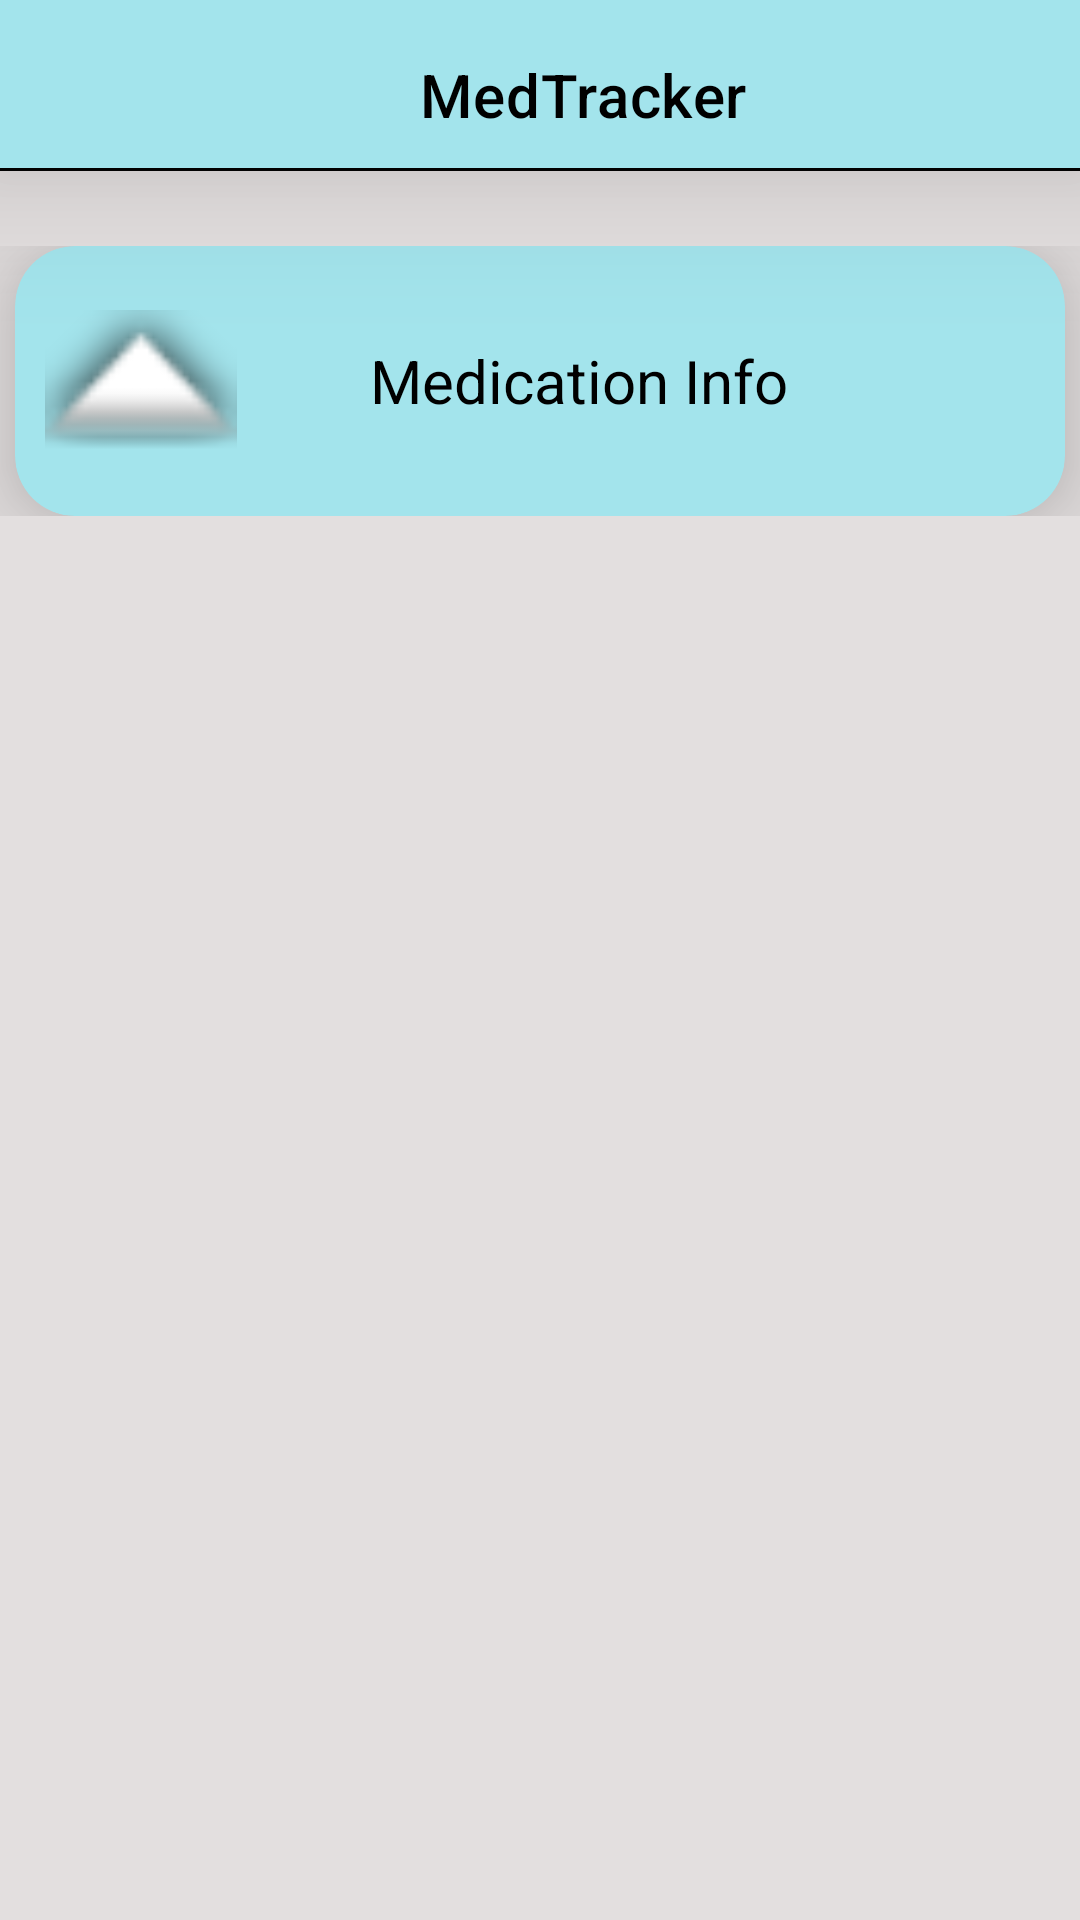

Screen size 1080px x 1920px. Icon name, then its center in pixels as (x=x, y=y):
arrow up float: (x=141, y=379)
